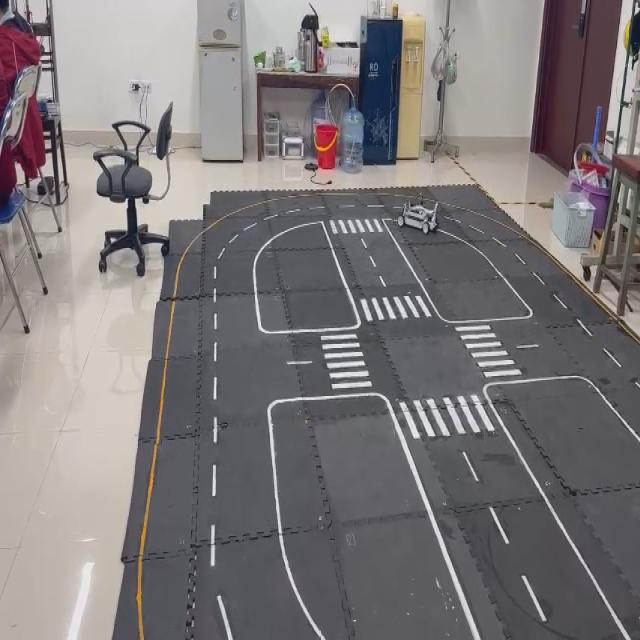SiCo-CAR: (396, 194, 439, 234)
